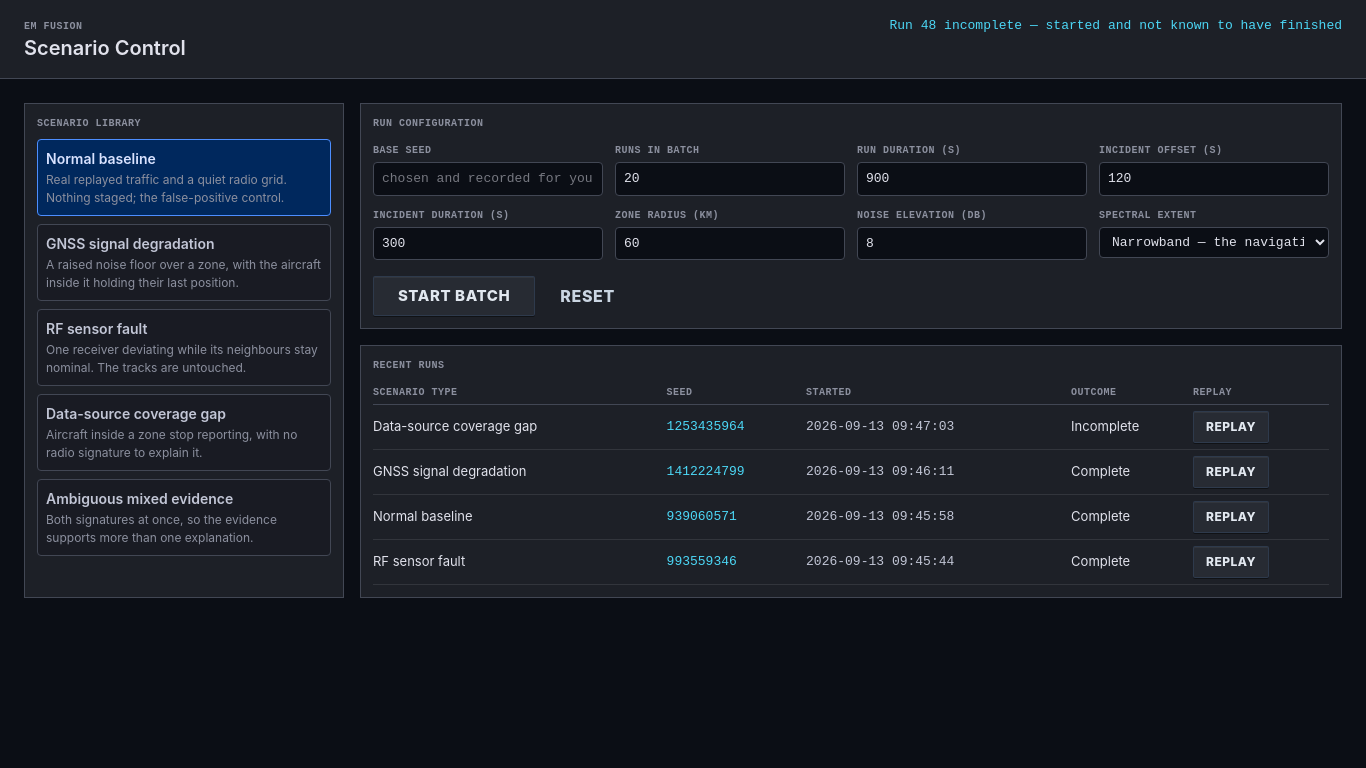
Test: ScenarioControlScreen › loads a replayed run's recorded values into the configuration
This screenshot has width=1366, height=768.
Type "1" into the field labelled "Base seed".
click(488, 179); type("1")  # box [373,162,603,196]
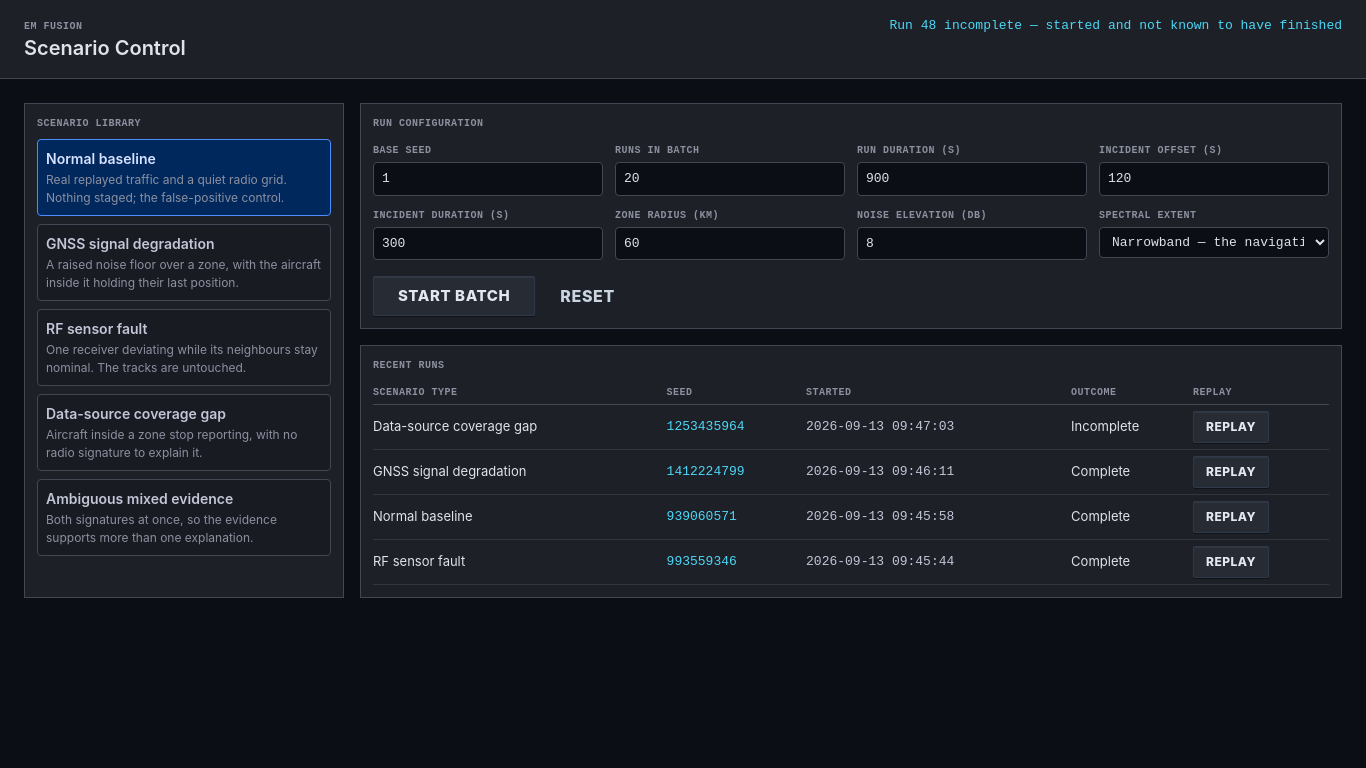
Replace the text in the field labelled "Zone radius (km)" with "75" at (730, 243), box [615,226,845,260]
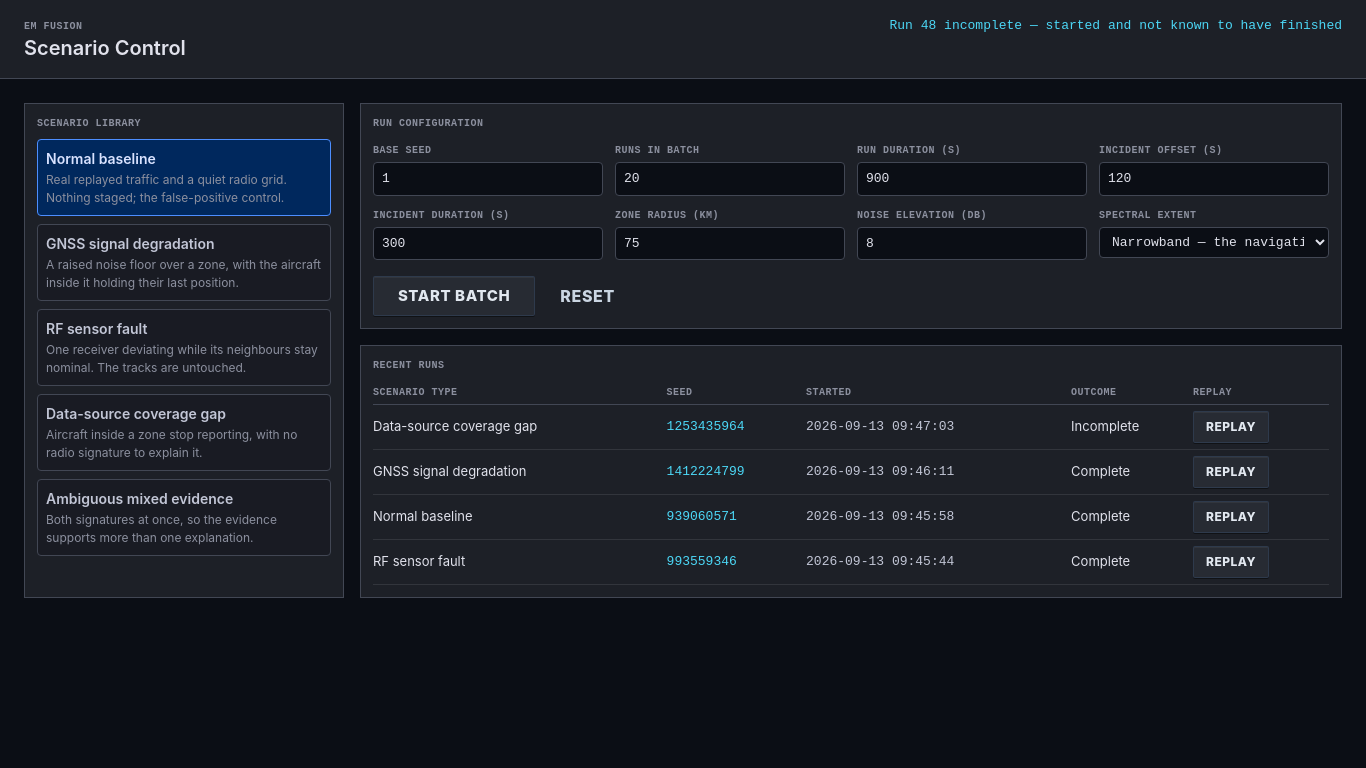
Click the button "Replay" in the row of "1412224799".
click(1231, 472)  # box [1193,456,1269,488]
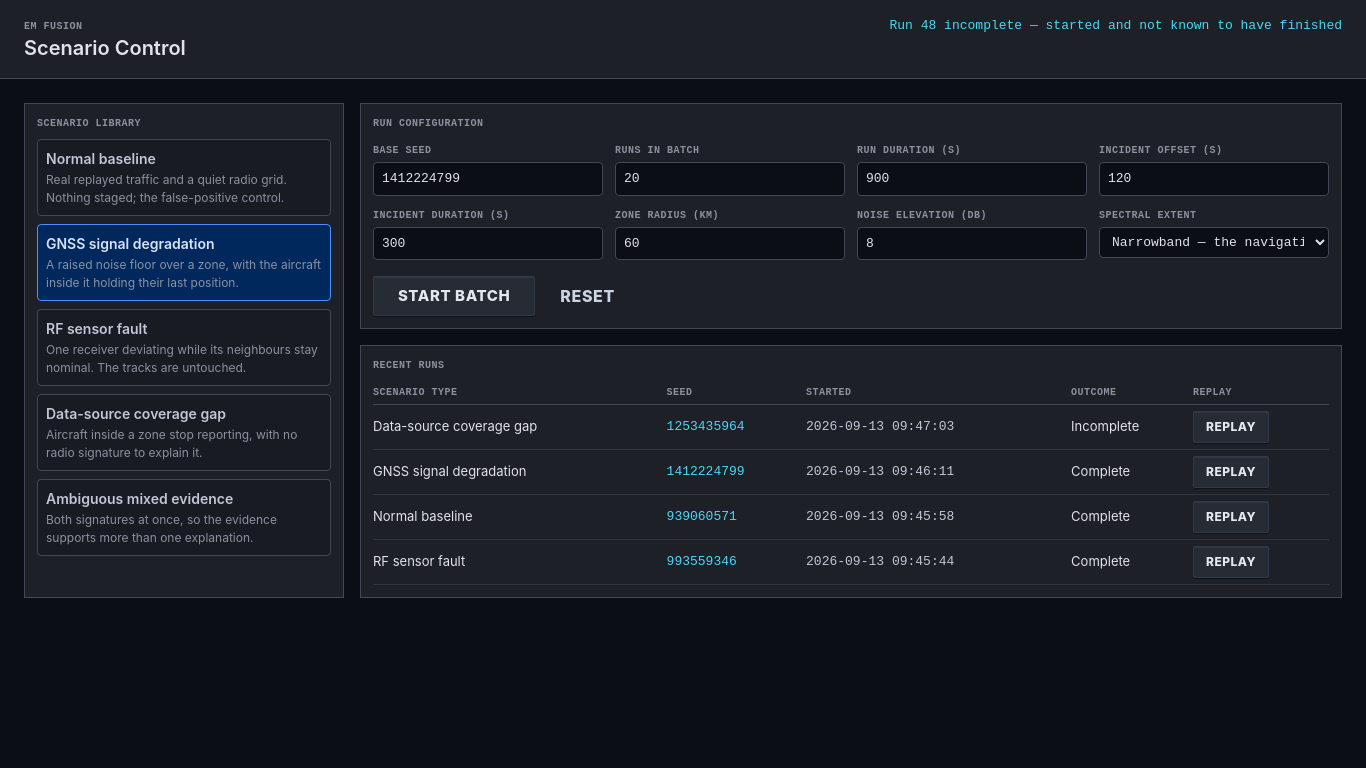
Expected: the field labelled "Incident offset (s)" holds "120", [1099,162,1329,196]
Now the field labelled "Base seed" holds "1412224799", box [373,162,603,196]
Now the field labelled "Zone radius (km)" holds "60", box [615,226,845,260]
